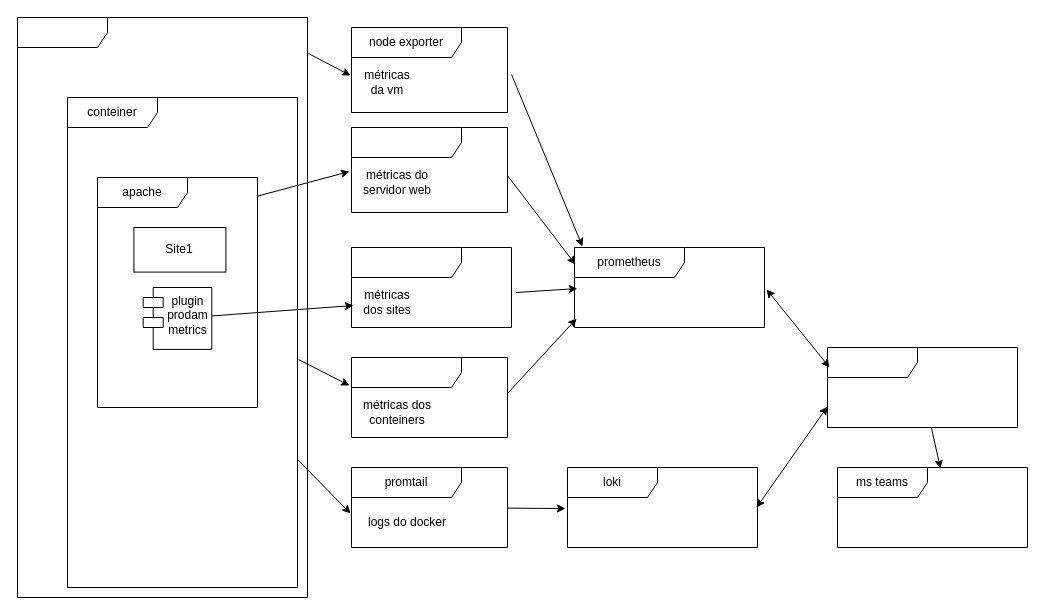
Image size: 1045x615. Some labels were removed from this diagram. The box of each missing label's shape, as (x1, y1, x2, y2) in pixels:
apache exporter: (350, 126, 508, 212)
cadvisor: (350, 356, 508, 438)
grafana: (826, 346, 1018, 428)
prodam exporter: (350, 246, 512, 328)
vm: (16, 16, 308, 598)
